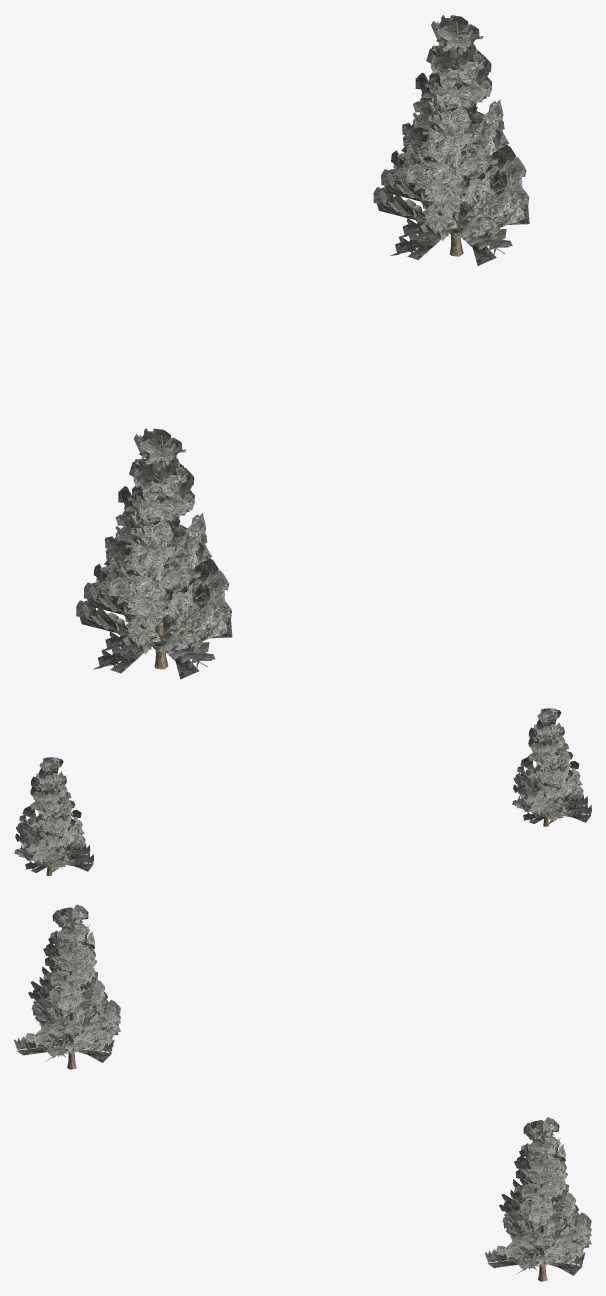
Rendered from trees.obj.
The picture shows the model from 3 angles, top to bottom: view 1: azimuth 30°, elevation 25°; view 2: azimuth 150°, elevation 25°; view 3: azimuth 270°, elevation 25°; orthographic projection. The views are drawn at different scales.
Parts seen in each view (by area): view 1: group house:pasted__polySurface2365, house:pasted__pasted__group7_pasted__pasted__polySurface2169past; view 2: group house:pasted__polySurface2365, house:pasted__pasted__group7_pasted__pasted__polySurface2169past; view 3: house:pasted__pasted__group7_pasted__pasted__polySurface2169past, group house:pasted__polySurface2365.
Part boxes in pixels (x1,y1,x2,y2): group house:pasted__polySurface2365: (373,14,529,265); house:pasted__pasted__group7_pasted__pasted__polySurface2169past: (76,428,232,679); group house:pasted__polySurface2365: (14,757,93,875); house:pasted__pasted__group7_pasted__pasted__polySurface2169past: (512,708,591,826); house:pasted__pasted__group7_pasted__pasted__polySurface2169past: (14,904,120,1069); group house:pasted__polySurface2365: (485,1117,591,1281).
Bounding box in the file's own units: 204 × 58.76 × 193.
4 materials, 4 textured.
